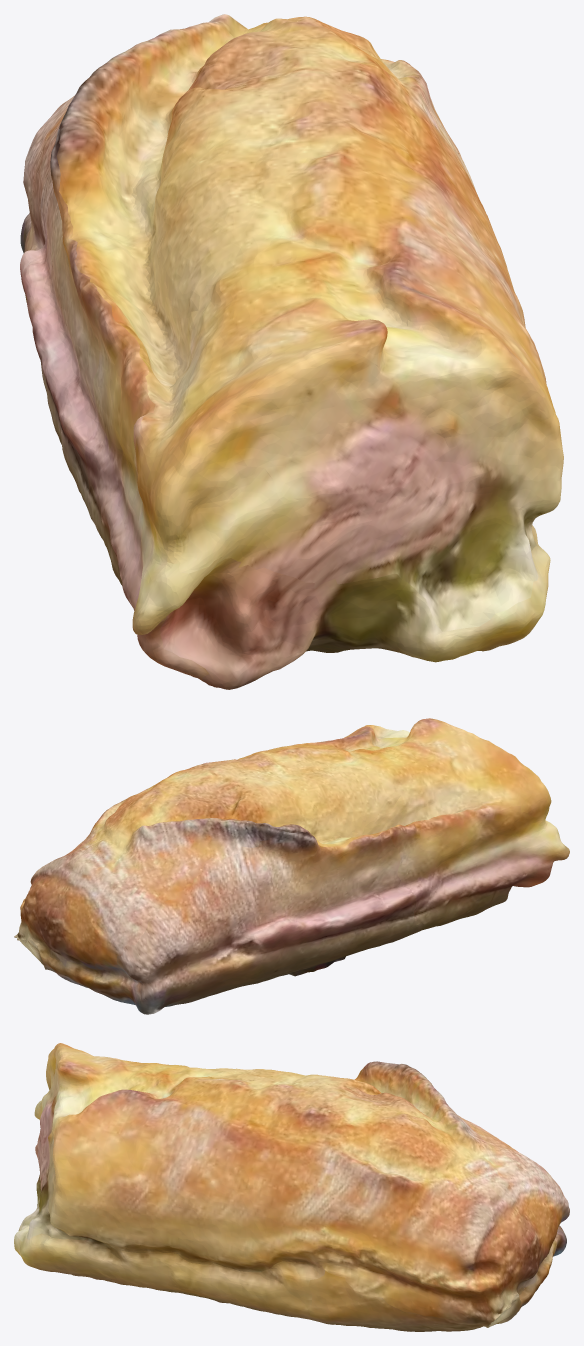
The model's file is petit_parisien_gainsbourg_sandwich.glb.
The picture shows the model from 3 angles, top to bottom: view 1: azimuth 30°, elevation 25°; view 2: azimuth 150°, elevation 25°; view 3: azimuth 270°, elevation 25°; orthographic projection. The views are drawn at different scales.
Parts seen in each view (by area): view 1: Model; view 2: Model; view 3: Model.
Boxes of the visible parts, bbox=[...] form: Model: bbox=[20, 14, 563, 689]; Model: bbox=[14, 718, 569, 1014]; Model: bbox=[14, 1043, 569, 1331].
Size of the model in its own units: 0.116 by 0.0598 by 0.1464.
Materials: 1 (1 with a texture image).
